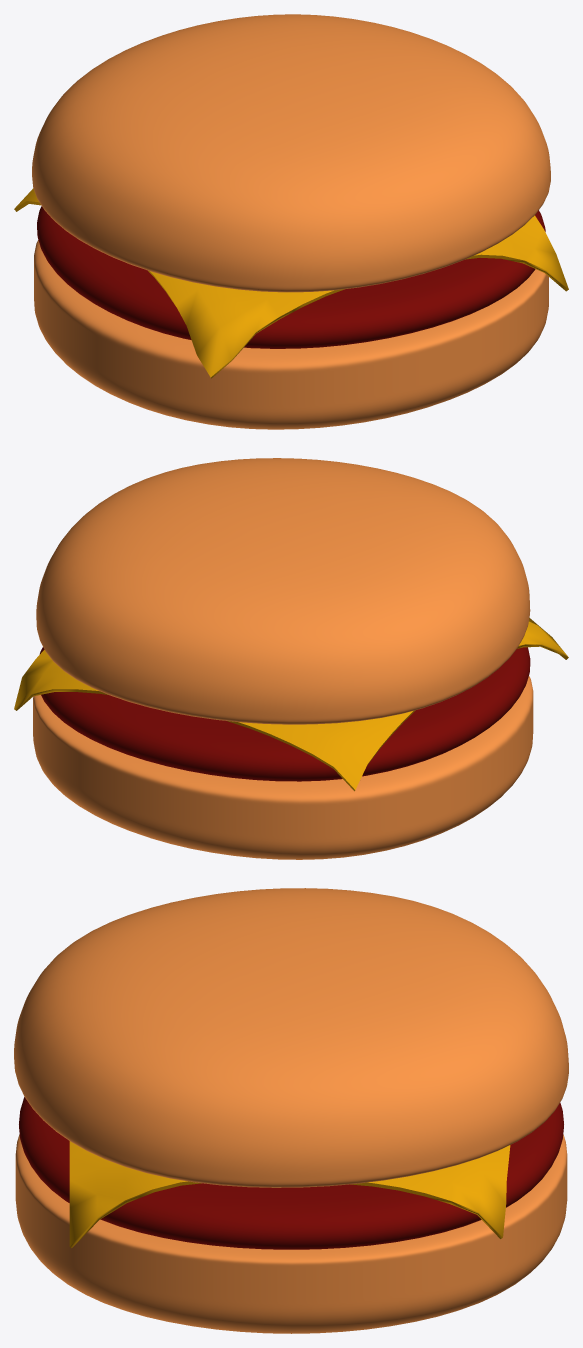
Rendered from hamburger.glb.
3 renders of one model, top to bottom at view 1: azimuth 30°, elevation 25°; view 2: azimuth 150°, elevation 25°; view 3: azimuth 270°, elevation 25°, orthographic. The views are drawn at different scales.
Parts seen in each view (by area): view 1: Cube.002, Cube, Cube.001, Plane; view 2: Cube.002, Cube, Cube.001, Plane; view 3: Cube.002, Cube, Cube.001, Plane.
Part boxes in pixels (x1,y1,x2,y2): Cube.002: (32,14,550,292); Cube: (34,240,548,429); Cube.001: (37,206,545,348); Plane: (14,188,568,378); Cube.002: (36,458,530,724); Cube: (33,676,533,859); Cube.001: (39,647,530,781); Plane: (14,618,568,791); Cube.002: (14,888,568,1187); Cube: (15,1134,567,1333); Cube.001: (19,1097,563,1249); Plane: (69,1141,510,1247).
Size of the model in its own units: 9.12 by 5.41 by 9.12.
